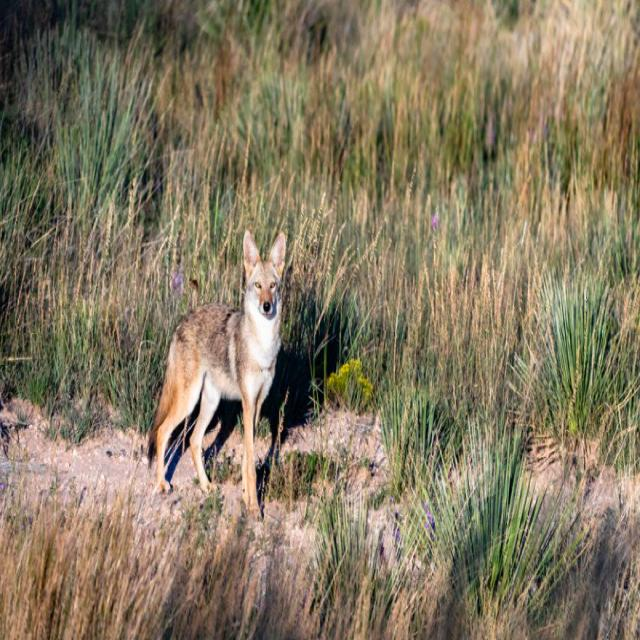coyote: (149, 231, 287, 509)
